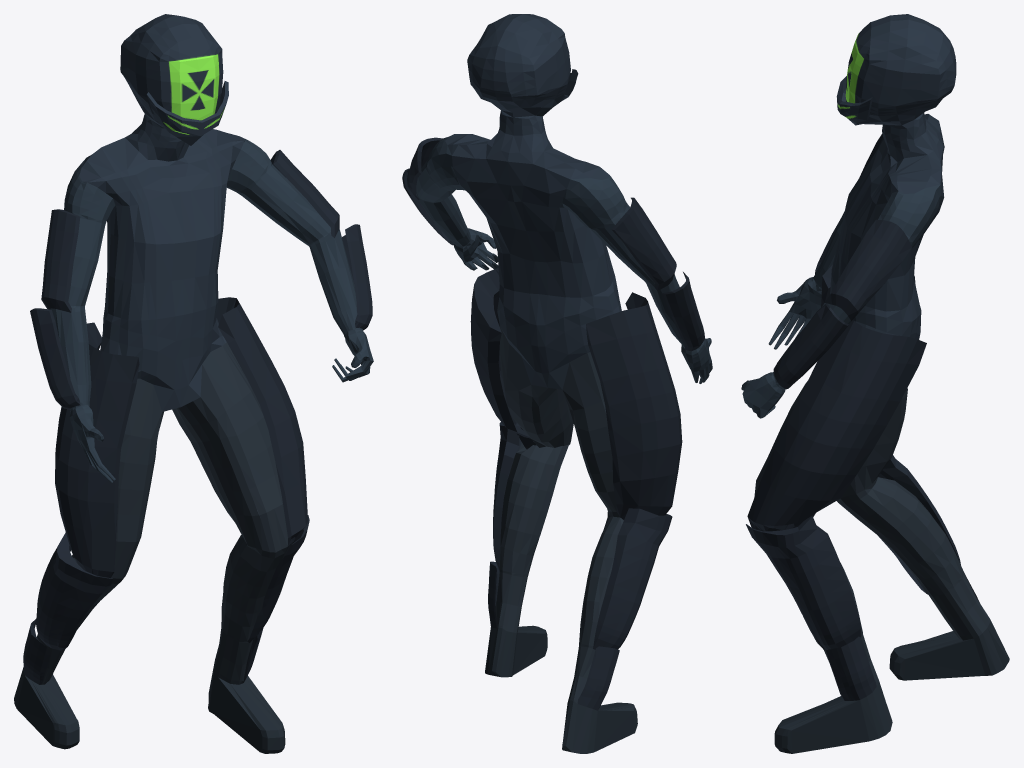
File: Bastion_Hit_Recover_000006.obj
3 views of the same model, side by side, from view 1: azimuth 30°, elevation 25°; view 2: azimuth 150°, elevation 25°; view 3: azimuth 270°, elevation 25° (orthographic). The views are drawn at different scales.
Parts seen in each view (by area): view 1: Cube.002; view 2: Cube.002; view 3: Cube.002.
Part boxes in pixels (left/top/right/bottom): Cube.002: left=14, top=14, right=373, bottom=753; Cube.002: left=402, top=14, right=712, bottom=753; Cube.002: left=741, top=14, right=1009, bottom=753.
Bounding box in the file's own units: 1.7 × 3.67 × 1.26.
